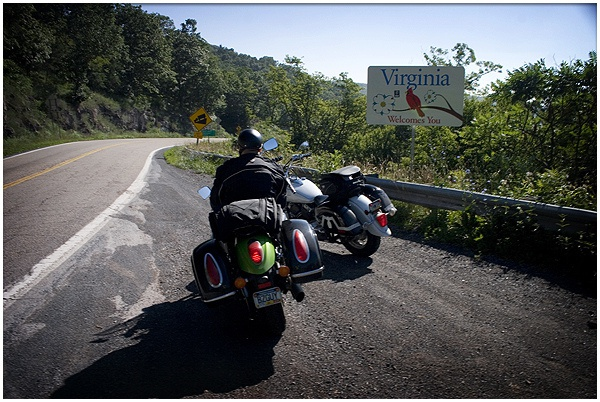non-vehicle: (195, 187, 326, 337), (278, 142, 392, 260)
